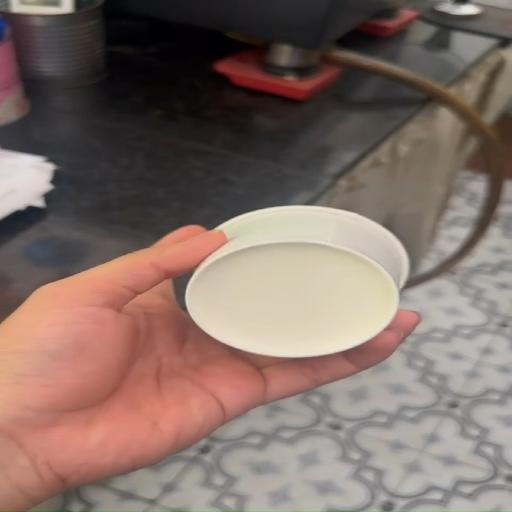Ly_giay: (185, 205, 409, 357)
